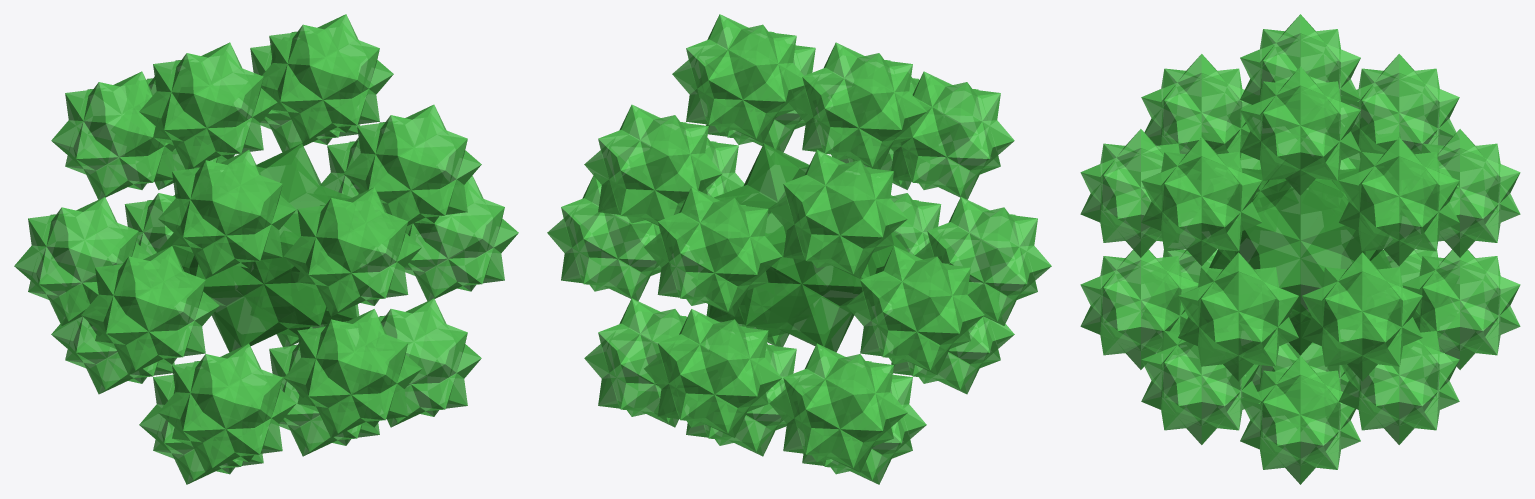
The model's file is fractalrhombicosacron1.glb.
3 views of the same model, side by side, from view 1: azimuth 30°, elevation 25°; view 2: azimuth 150°, elevation 25°; view 3: azimuth 270°, elevation 25° (orthographic). The views are drawn at different scales.
Bounding box in the file's own units: 11.29 × 11.29 × 11.29.
